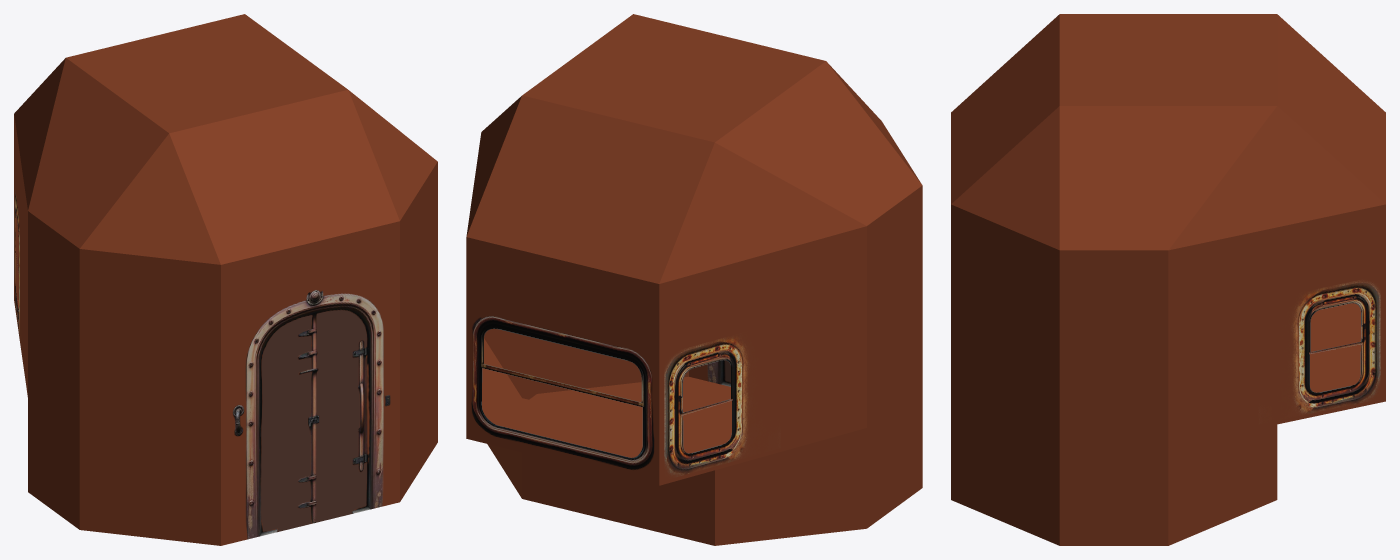
Rendered from train_inside.obj.
3 renders of one model, left to right at view 1: azimuth 30°, elevation 25°; view 2: azimuth 150°, elevation 25°; view 3: azimuth 270°, elevation 25°, orthographic. The views are drawn at different scales.
Visible parts, largest first — view 1: Plane; view 2: Plane; view 3: Plane.
Part boxes in pixels (left/top/right/bottom): Plane: left=14, top=14, right=437, bottom=545; Plane: left=466, top=14, right=922, bottom=545; Plane: left=951, top=14, right=1385, bottom=545.
Bounding box in the file's own units: 4 × 4 × 4.
